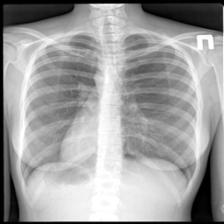tuberculosis: (16, 21, 199, 222)
